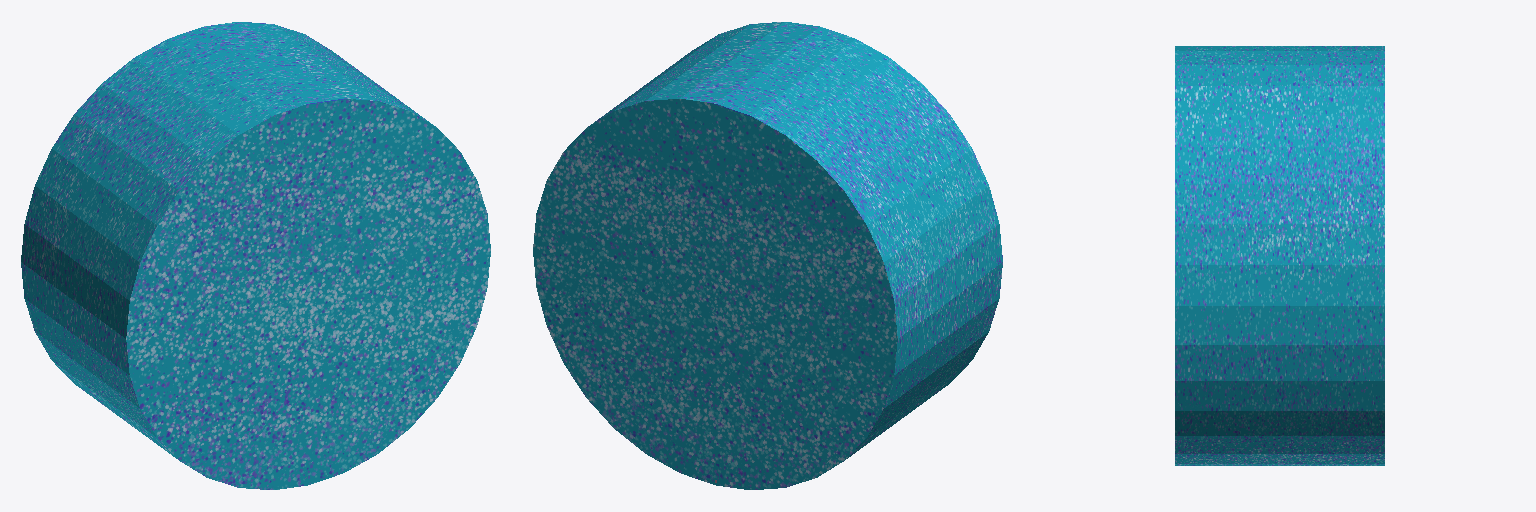
3 views of the same model, side by side, from view 1: azimuth 30°, elevation 25°; view 2: azimuth 150°, elevation 25°; view 3: azimuth 270°, elevation 25° (orthographic).
Parts seen in each view (by area): view 1: 円柱; view 2: 円柱; view 3: 円柱.
Boxes of the visible parts, box(x1,y1,x2,y2) form: 円柱: box(21, 22, 490, 489); 円柱: box(533, 22, 1002, 489); 円柱: box(1175, 46, 1384, 465).
Size of the model in its own units: 2 by 2 by 1.
Materials: 1 (1 with a texture image).